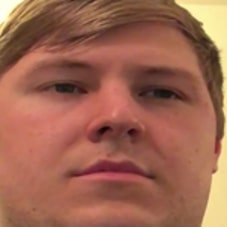drowsy: (21, 49, 208, 201)
